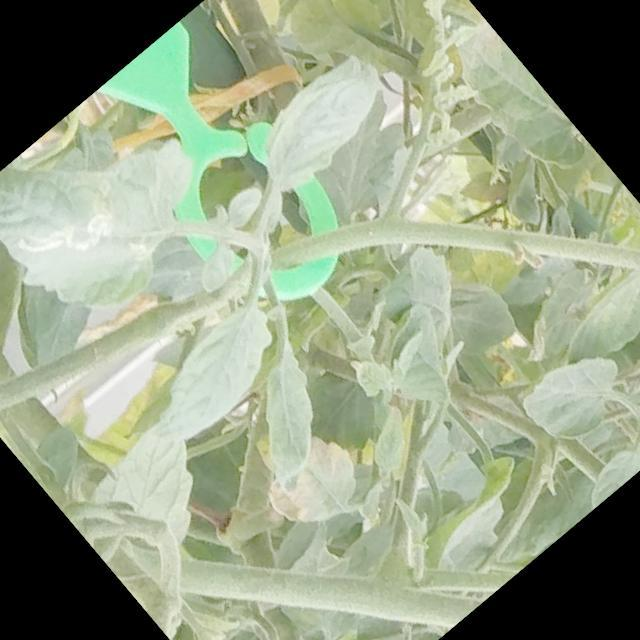Tomato target spot leaf: (0, 70, 239, 347)
